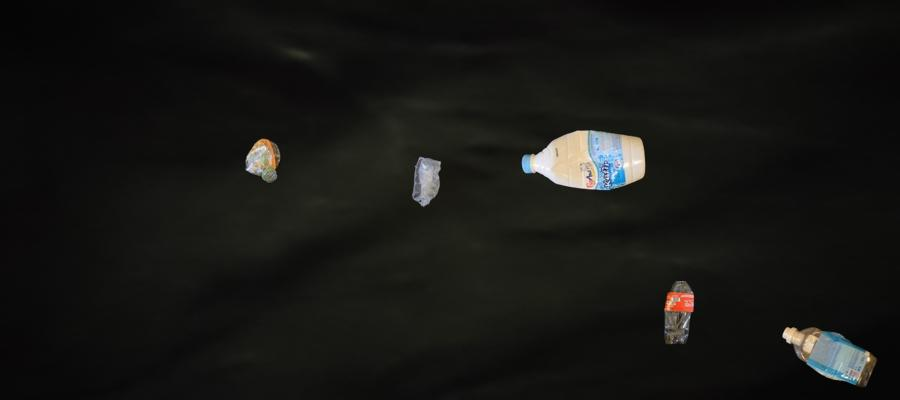PP: (519, 128, 647, 192), (148, 136, 283, 184), (780, 325, 878, 389), (374, 148, 441, 208), (663, 281, 695, 345)
